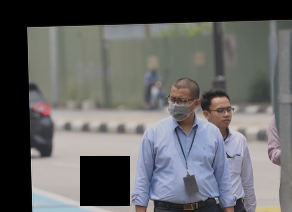with_mask: (167, 94, 193, 122)
without_mask: (208, 103, 232, 128)
